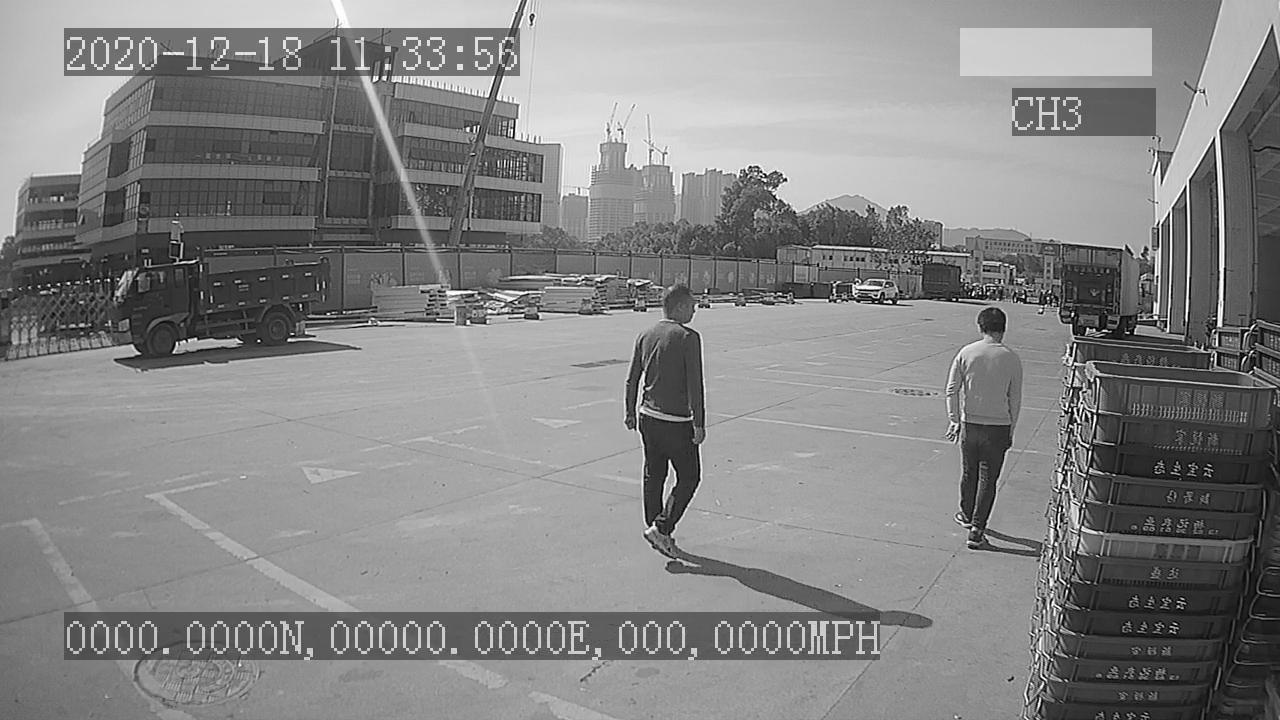person: (619, 278, 714, 558), (937, 302, 1026, 551)
